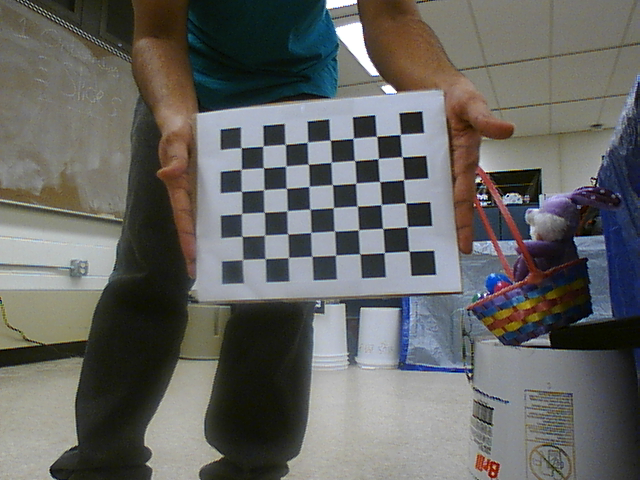bunny: (465, 157, 605, 347)
